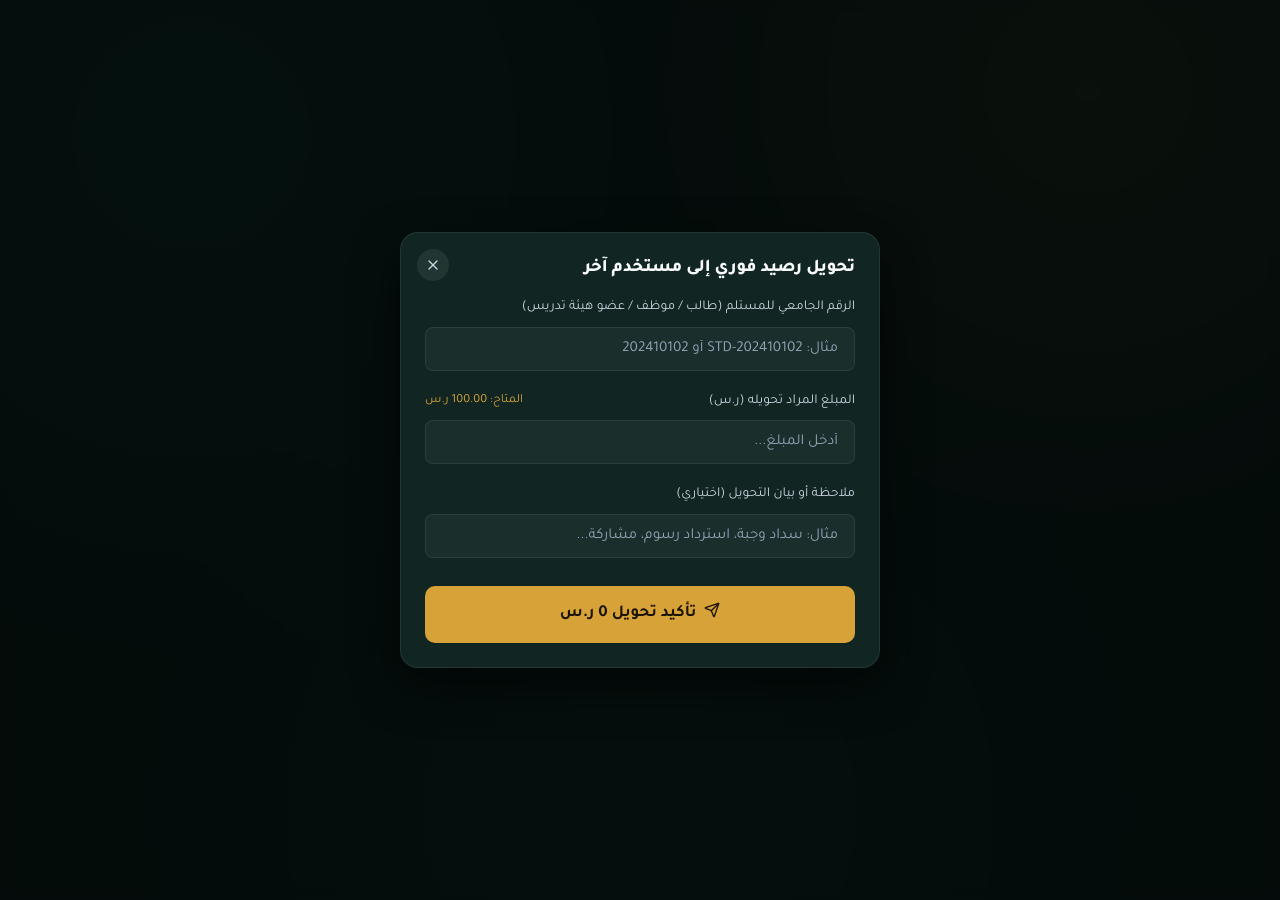
Scenario: TransferModal Component › validates recipient and insufficient balance before submit
This screenshot has width=1280, height=900.
Step 1. Click the button with test id "btn-confirm-transfer" → x=640, y=614, box [425,586,855,642]
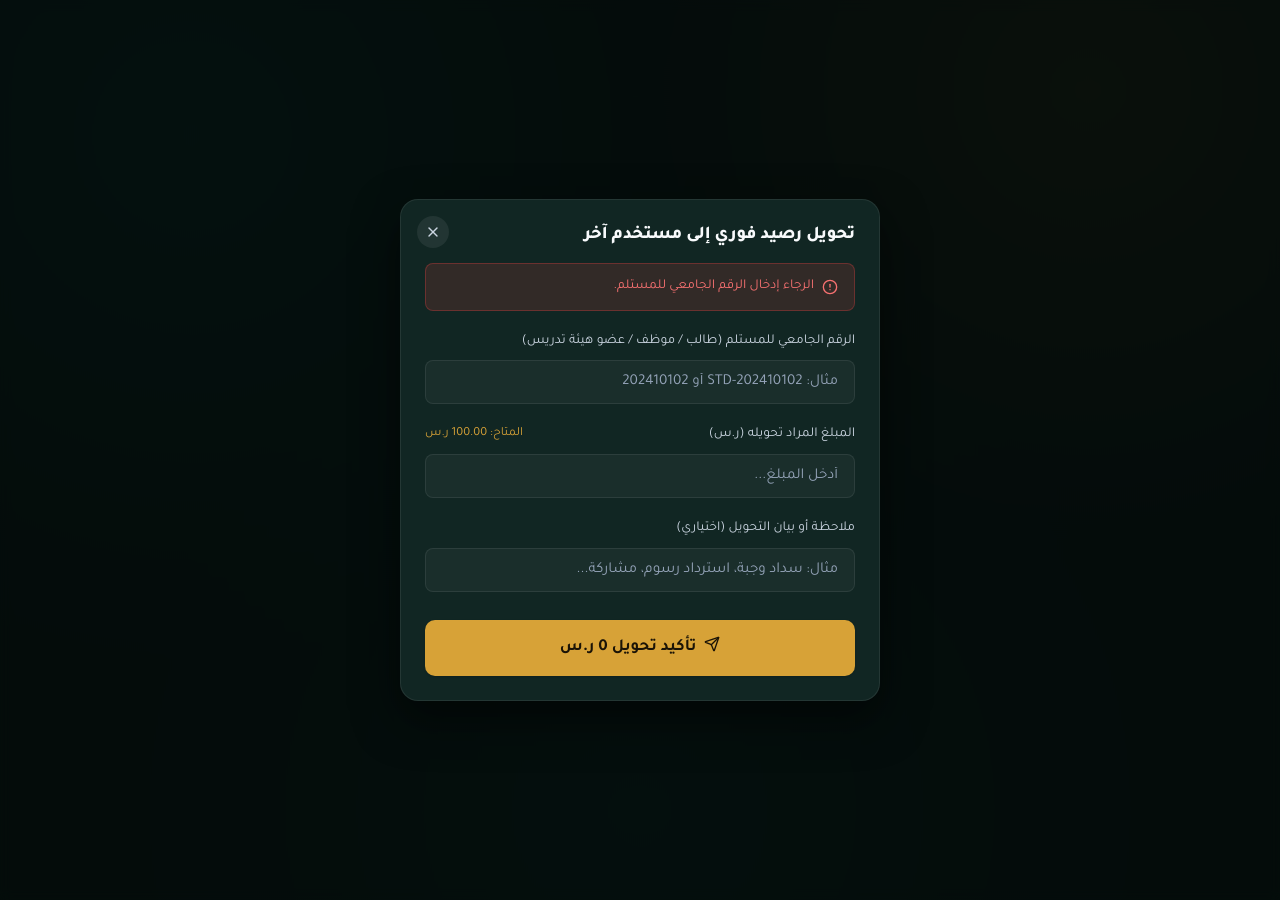
Now the text "الرجاء إدخال الرقم الجامعي للمستلم." is shown, box [614,276,814,298]
Note: Fill recipient and amount exceeding balance
Step 2. Type "STD-202410102" into the field with test id "input-transfer-recipient" → x=640, y=382, box [425,360,855,404]
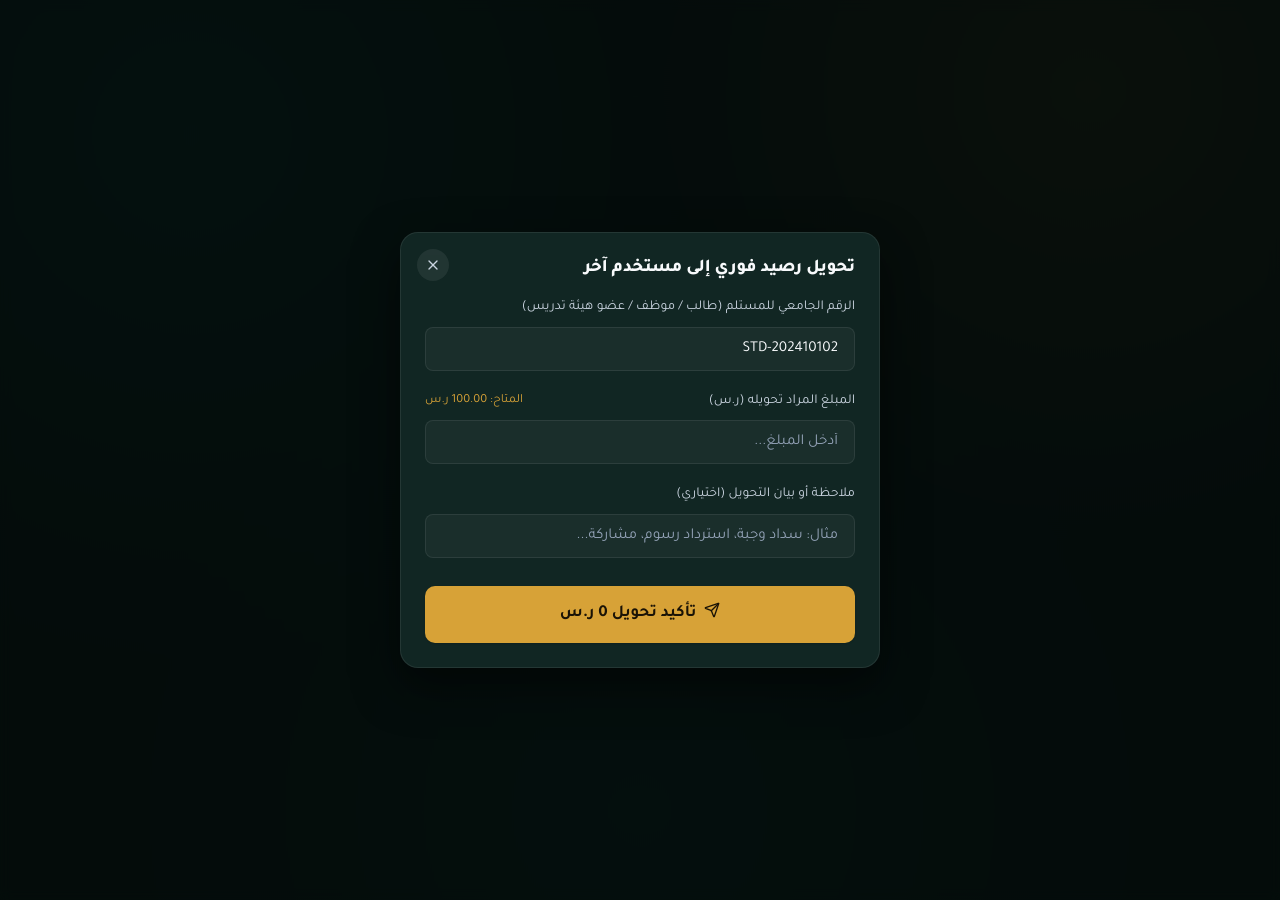
Step 3. Type "250" into the number field with test id "input-transfer-amount" → x=640, y=442, box [425,420,855,464]
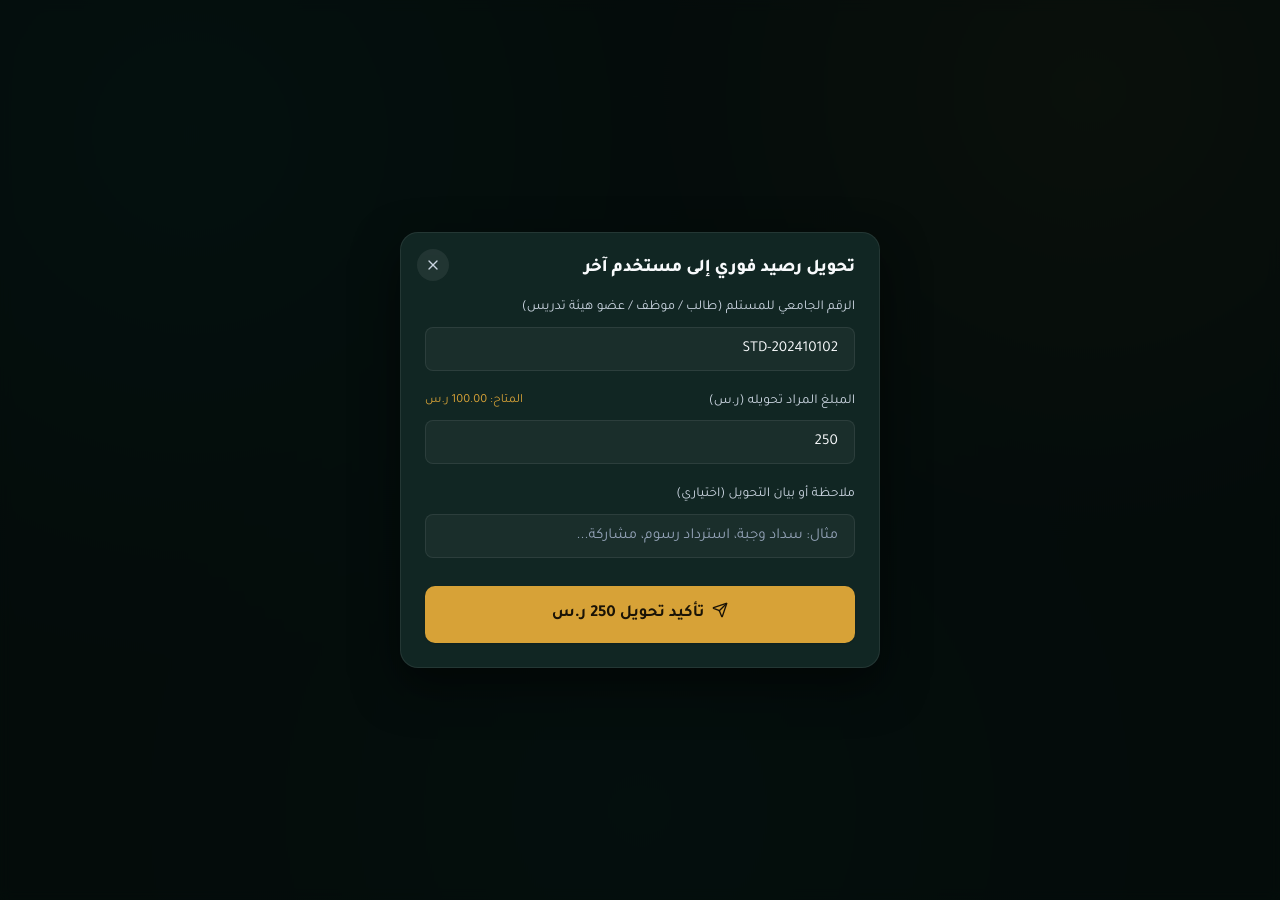
Step 4. Click the button with test id "btn-confirm-transfer" → x=640, y=614, box [425,586,855,642]
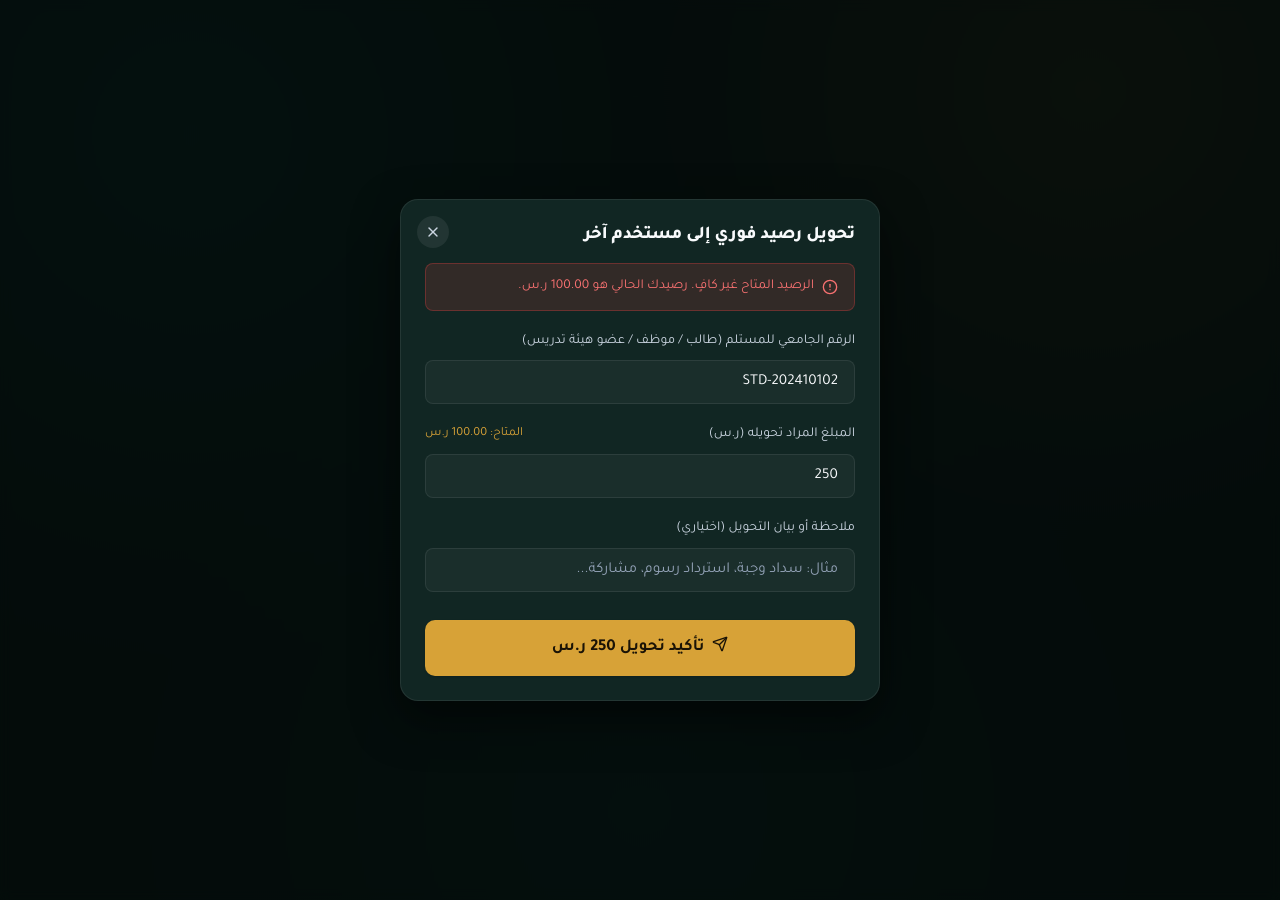
Now the text "الرصيد المتاح غير كافٍ. رصيدك الحالي هو 100.00 ر.س." is shown, box [518,276,814,298]
